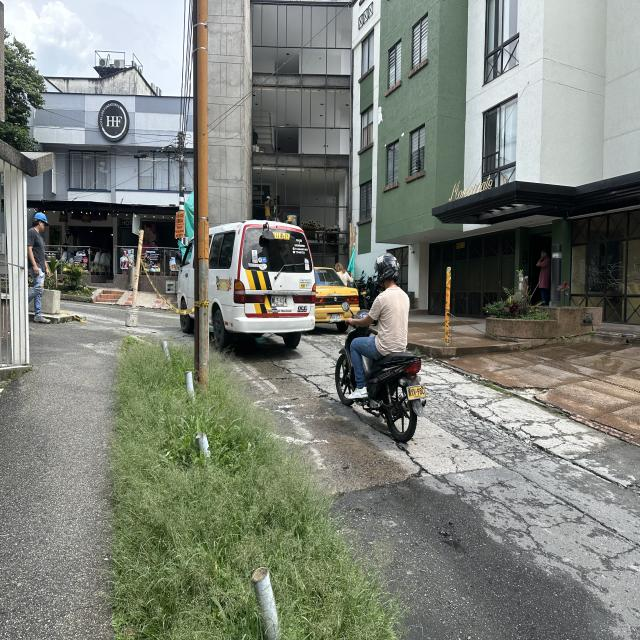number plate: (406, 385, 426, 400), (271, 295, 288, 307), (329, 313, 341, 322)
